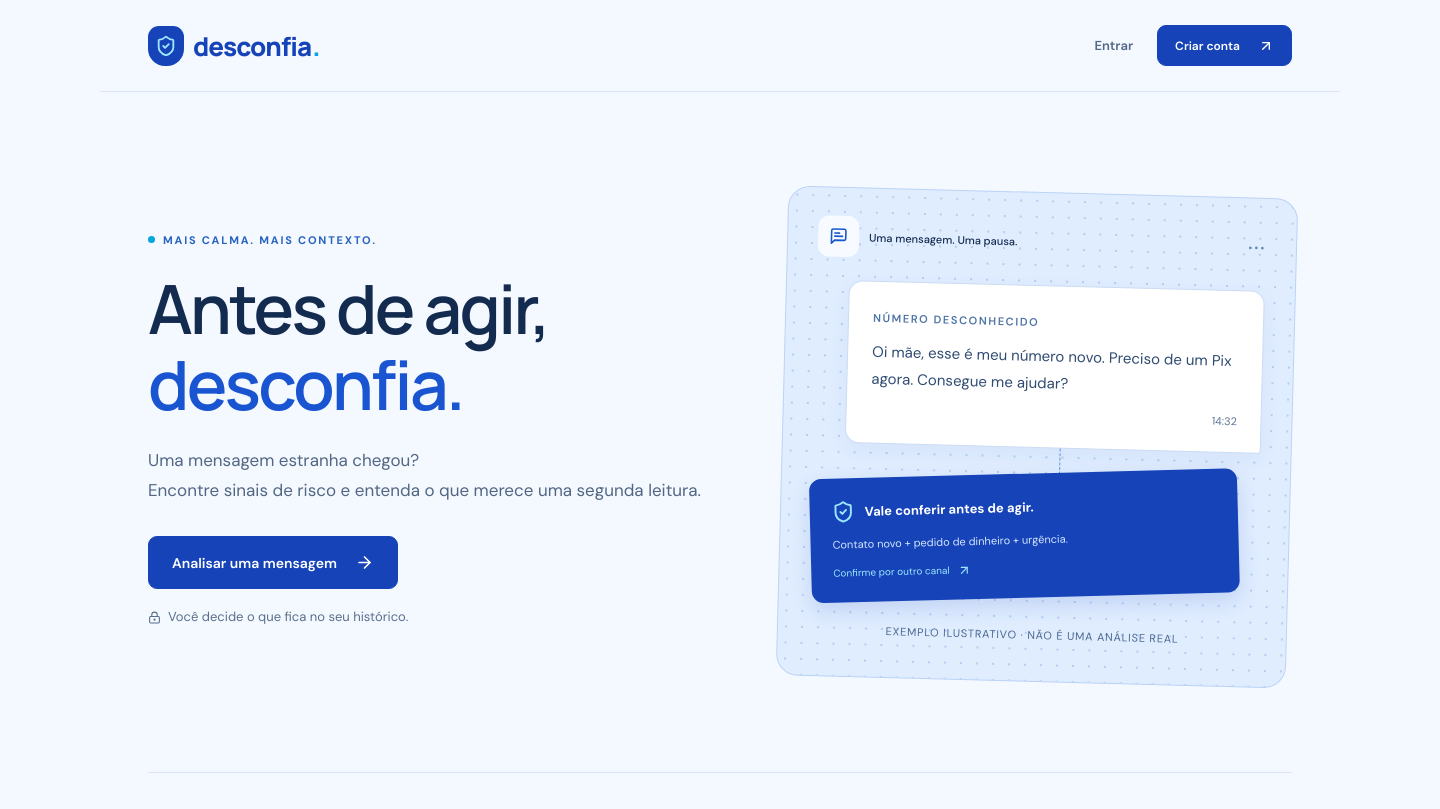
Test: Fluxos do Desconfia › carrega histórico e exige confirmação para excluir
This screenshot has width=1440, height=809.
Click the button "Entrar": (1114, 46) [1094,29,1133,62]
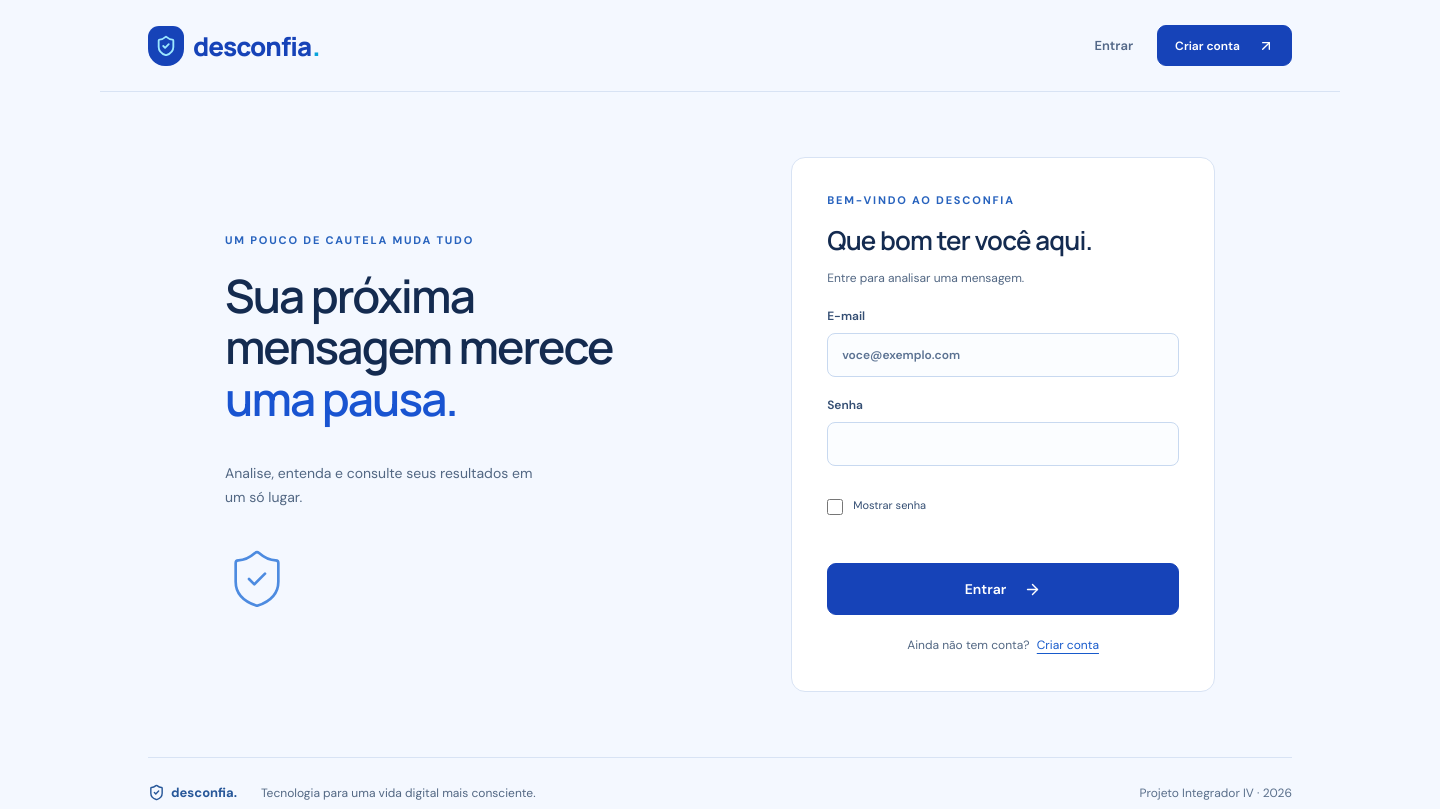
In the field labelled "E-mail": (1003, 355) [827,333,1179,377], type "teste@example.com"
In the password field labelled "Senha": (1003, 444) [827,422,1179,466], type "Teste123!"
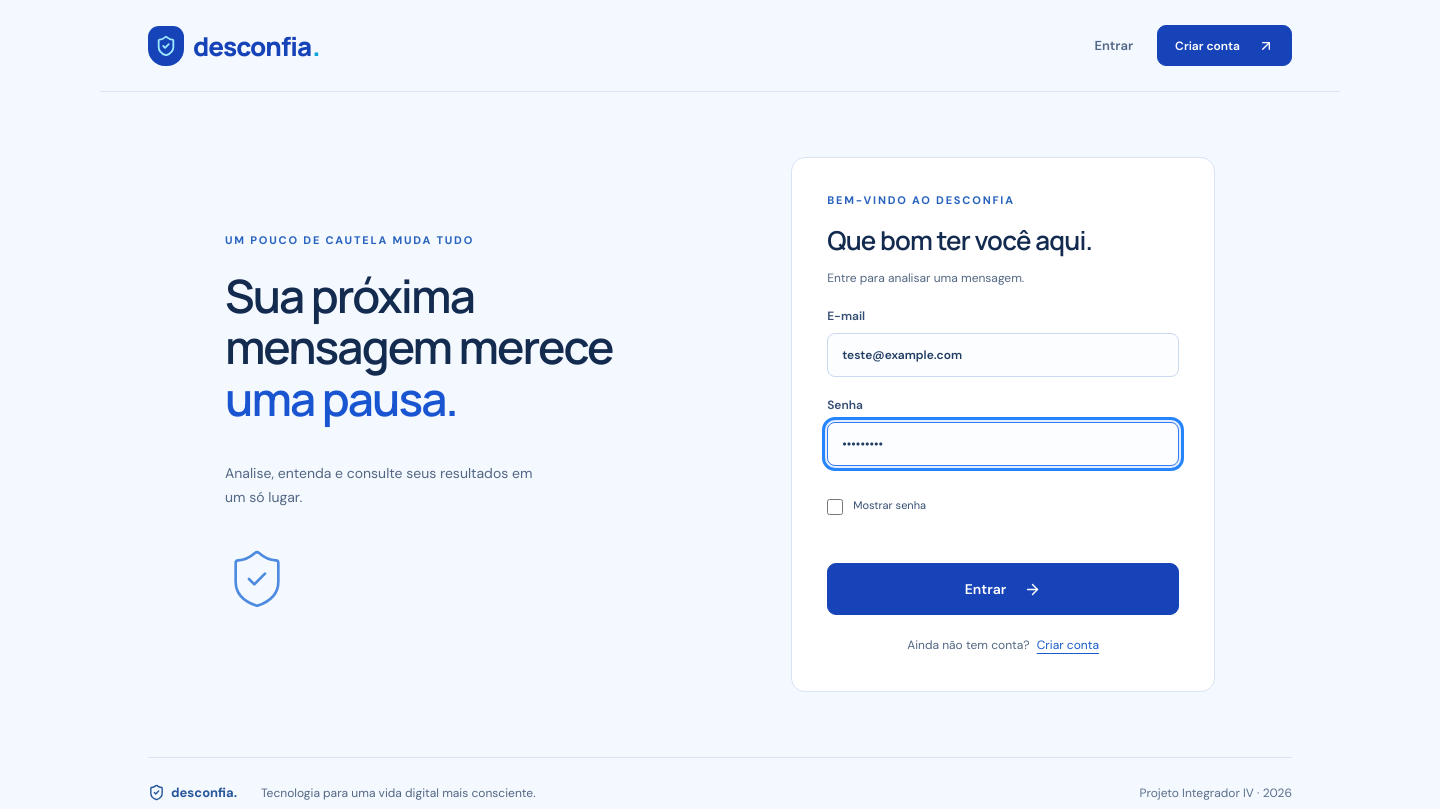
Click the button "Entrar" below "Mostrar senha": (1003, 589) [827,563,1179,615]
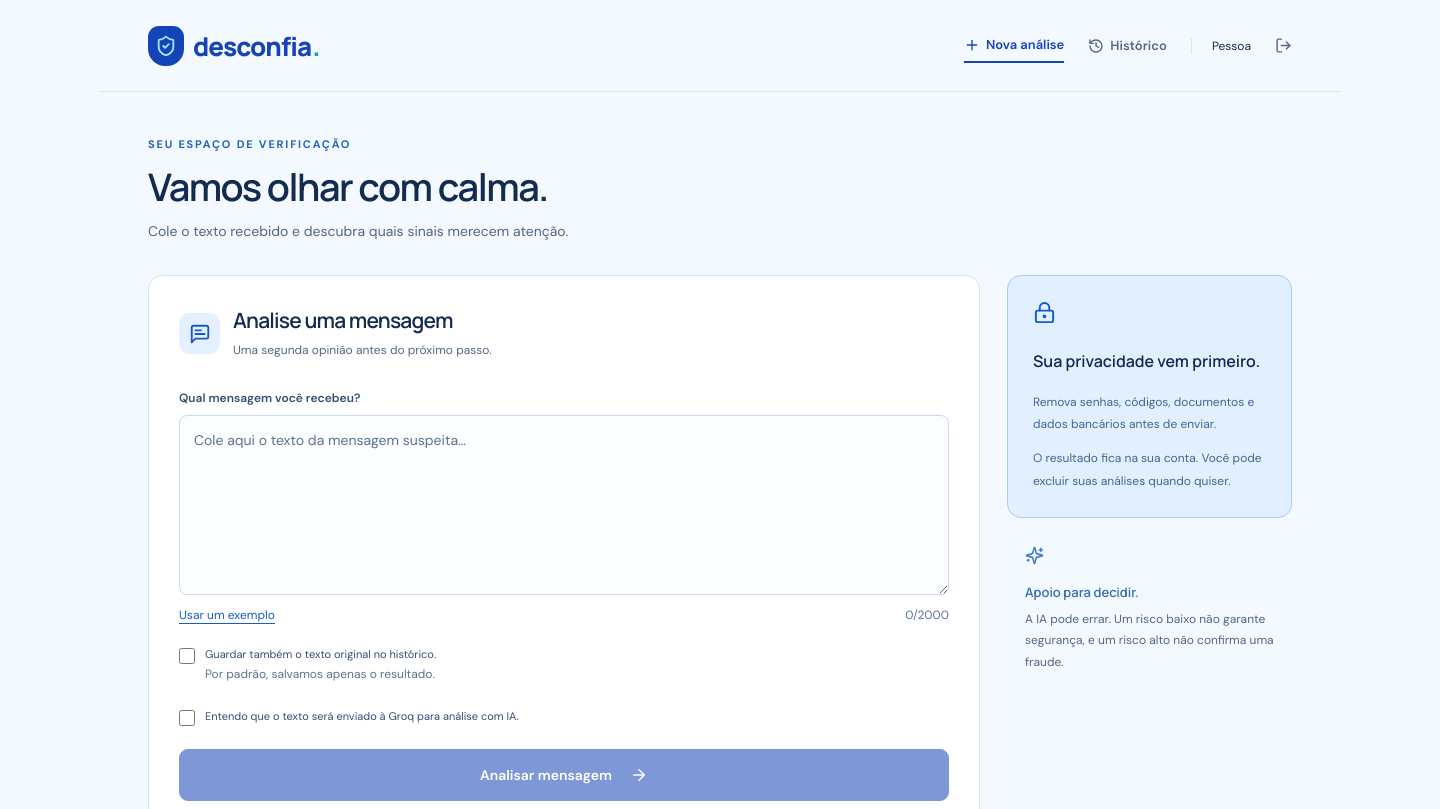
Check: the heading "Vamos olhar com calma." is shown, box [148,160,548,212]
Click the button "Histórico": (1128, 46) [1088,29,1167,62]
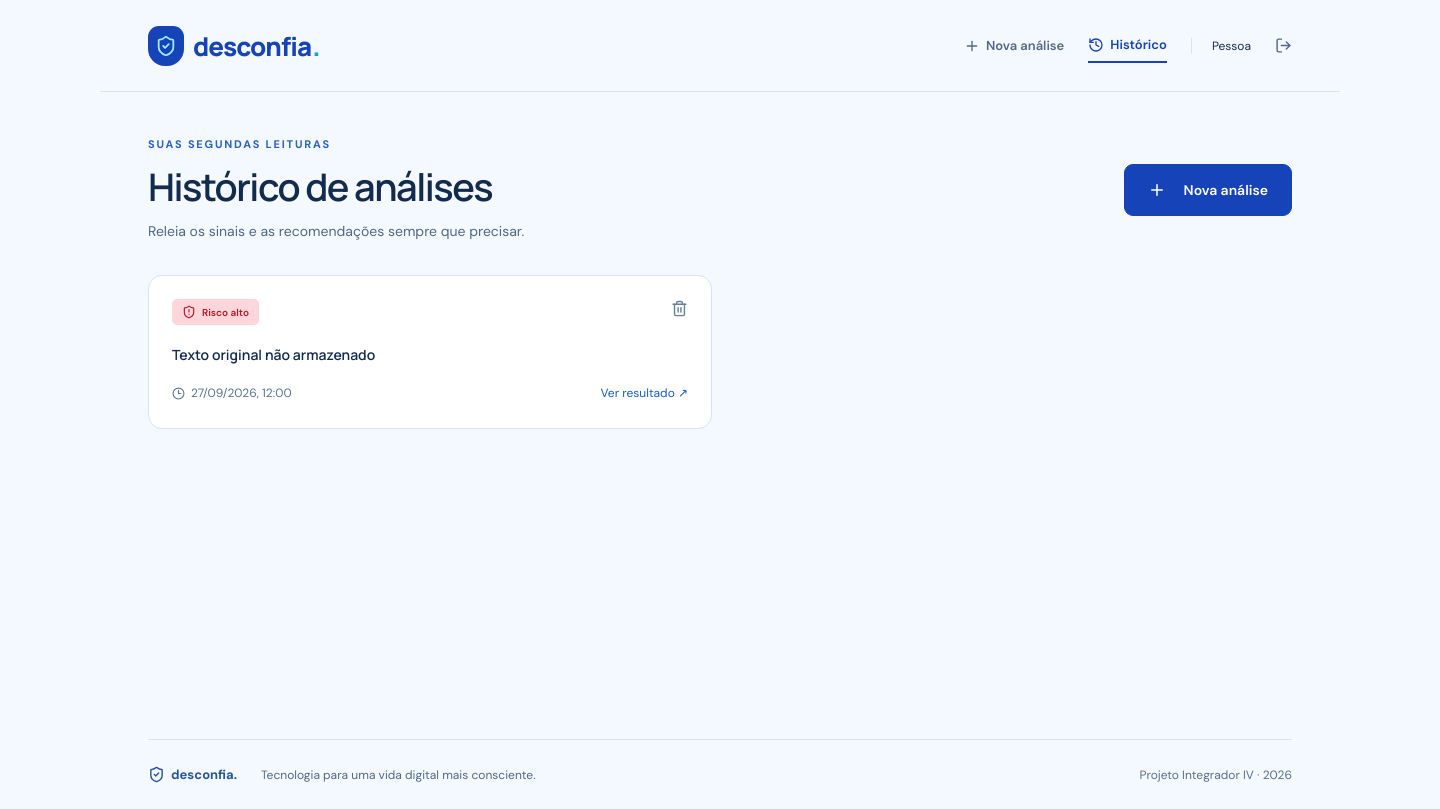
Check: the text "Texto original não armazenado" is shown, box [172,345,375,364]
Click the button named "Excluir análise": (680, 311) [658,287,701,335]
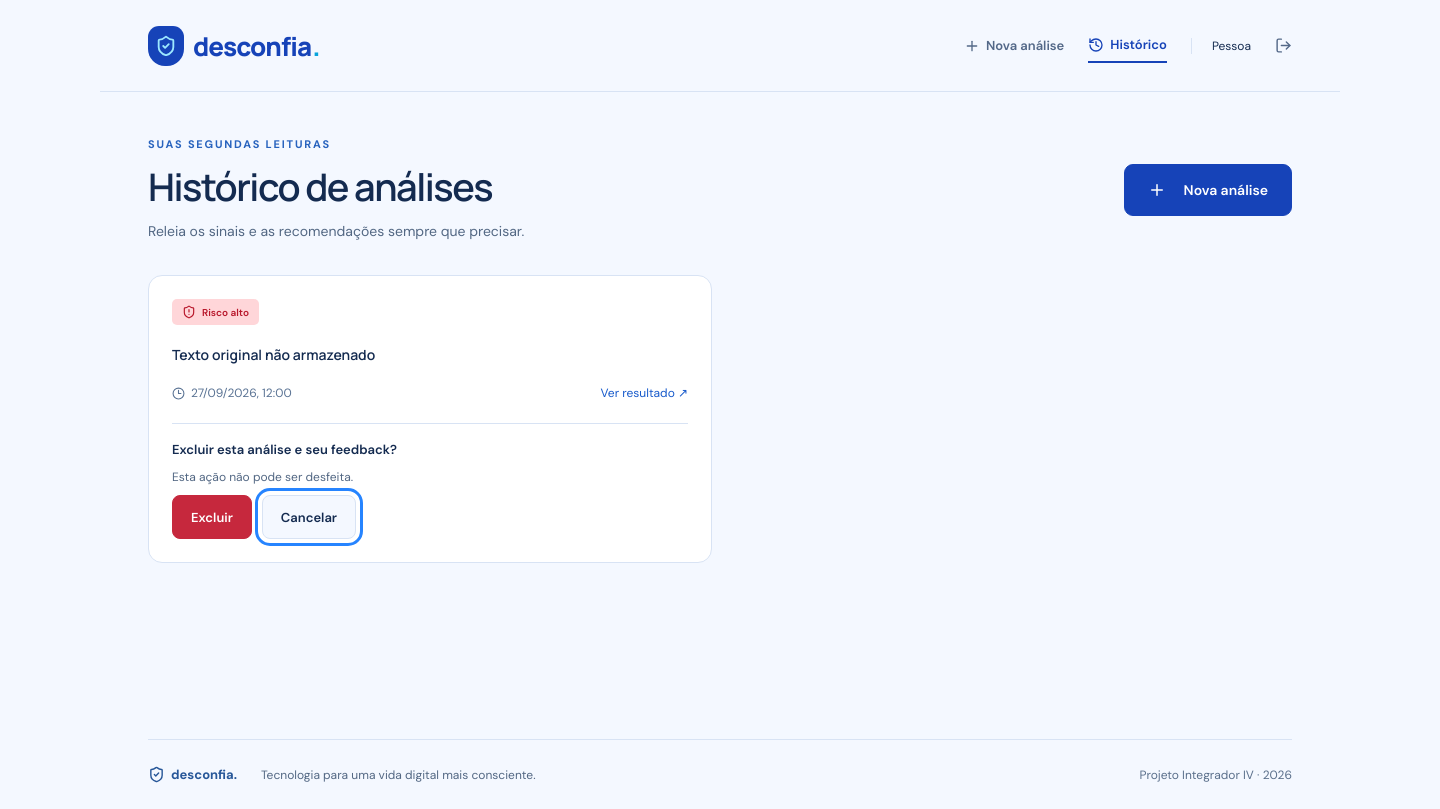
Check: the text "Excluir esta análise e seu feedback?" is shown, box [172,441,397,458]
Click the button "Excluir": (212, 517) [172,495,252,539]
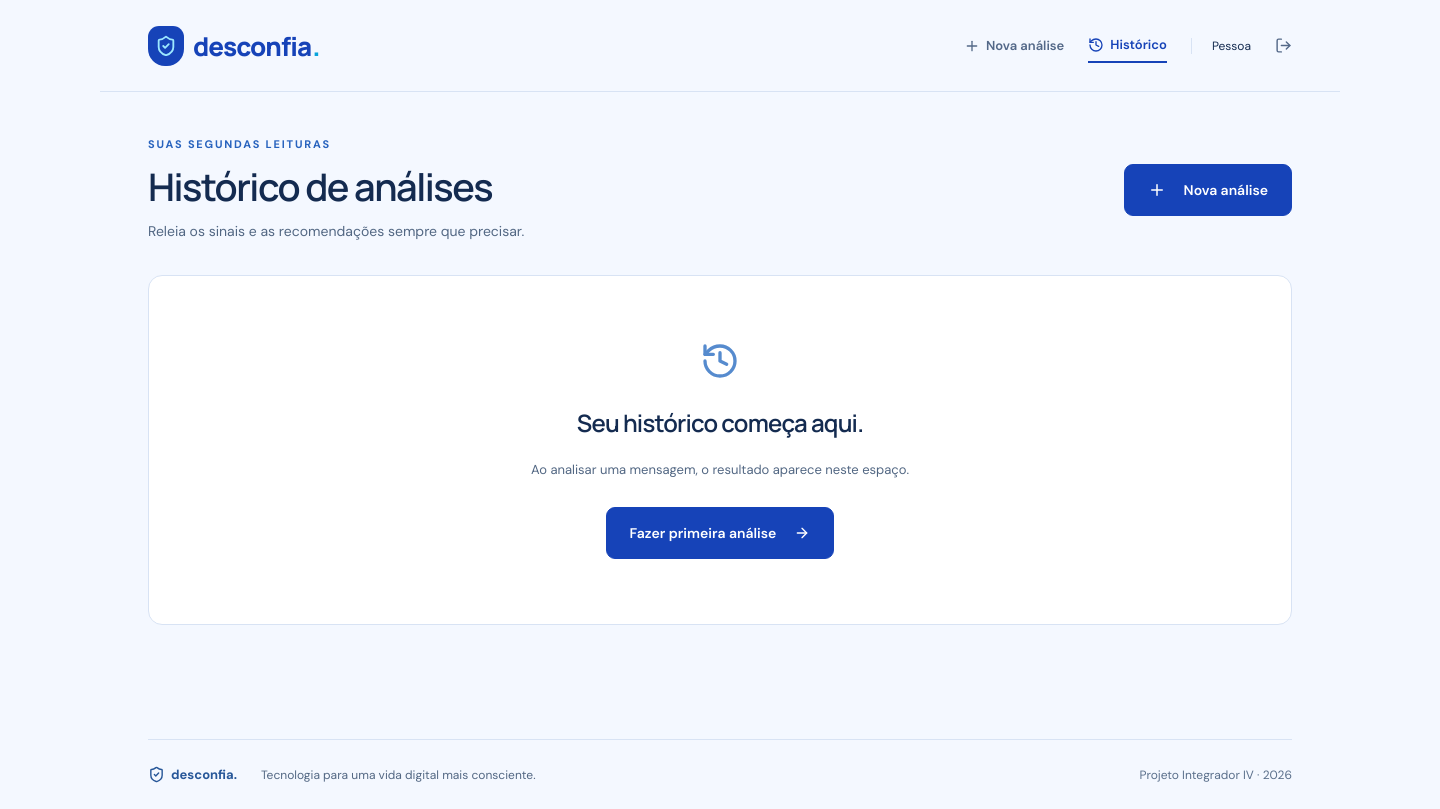
Check: the heading "Seu histórico começa aqui." is shown, box [577,406,863,439]
